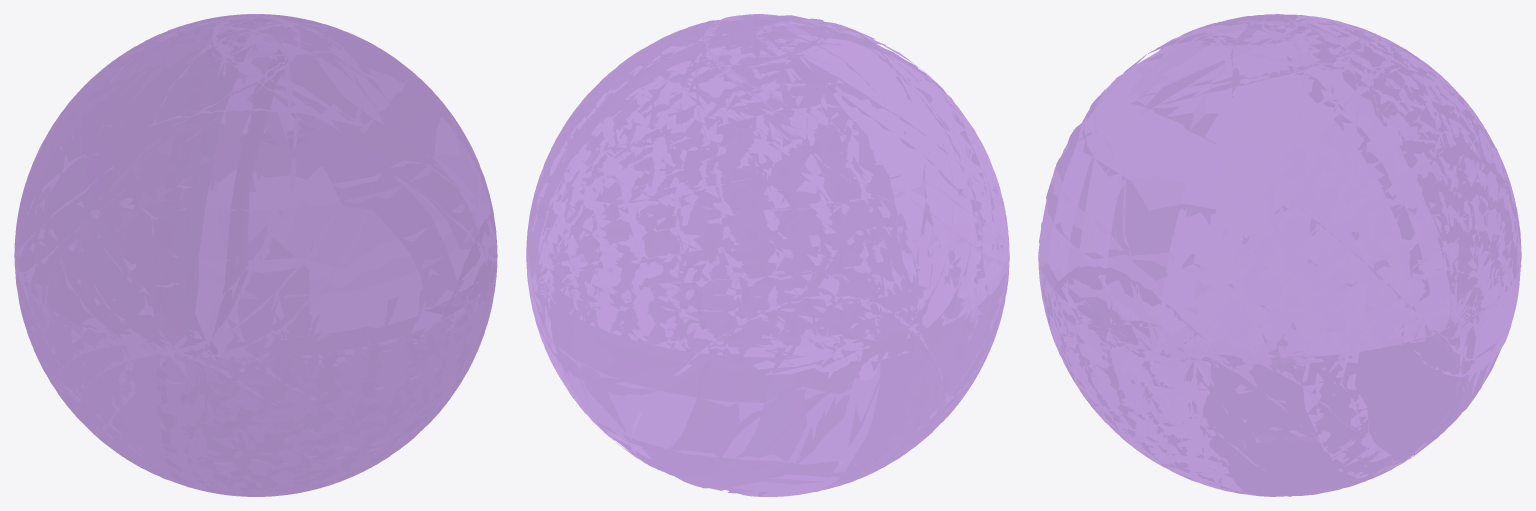
The model's file is jtubes-5.glb.
3 views of the same model, side by side, from view 1: azimuth 30°, elevation 25°; view 2: azimuth 150°, elevation 25°; view 3: azimuth 270°, elevation 25° (orthographic).
Visible parts, largest first — view 1: jtubes; view 2: jtubes; view 3: jtubes.
Boxes of the visible parts, left/top/right/bottom form: jtubes: left=14, top=14, right=497, bottom=496; jtubes: left=526, top=14, right=1009, bottom=496; jtubes: left=1038, top=14, right=1521, bottom=496.
Bounding box in the file's own units: 2 × 2 × 2.
